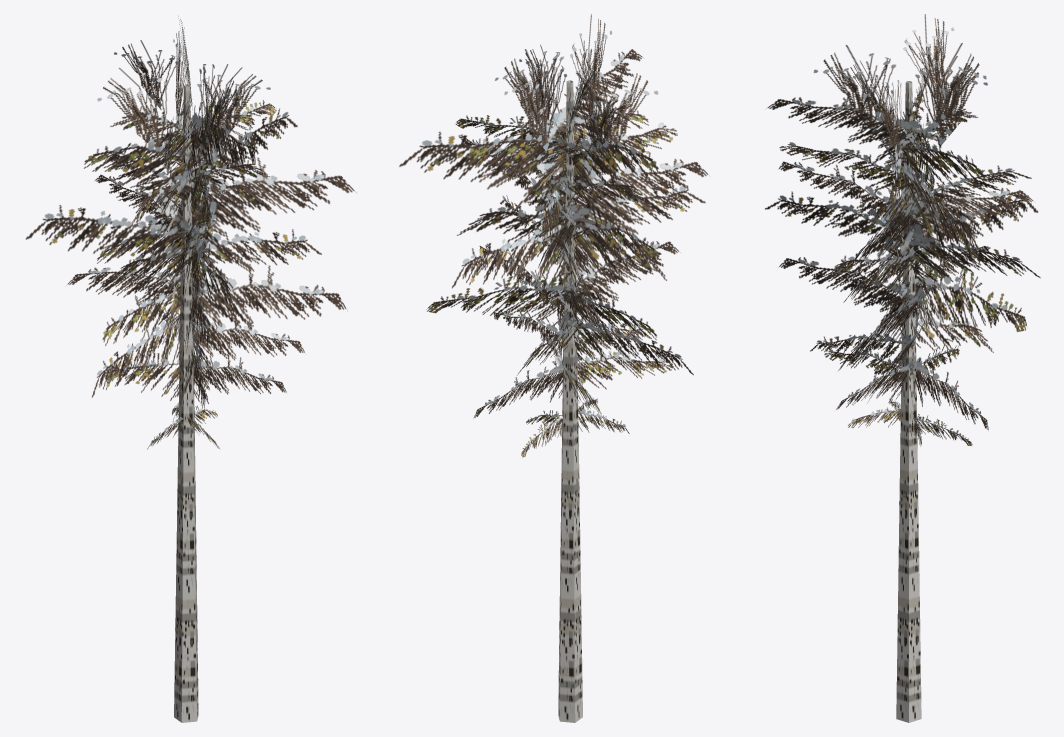
Rendered from Birch.glb.
The picture shows the model from 3 angles, left to right: view 1: azimuth 30°, elevation 25°; view 2: azimuth 150°, elevation 25°; view 3: azimuth 270°, elevation 25°; orthographic projection.
Visible parts, largest first — view 1: Birch; view 2: Birch; view 3: Birch.
Boxes of the visible parts, x1,y1,x2,y2 form: Birch: (25, 16, 356, 722); Birch: (399, 14, 708, 722); Birch: (765, 14, 1040, 722).
Bounding box in the file's own units: 2.93 × 6.47 × 2.53.
1 material, 1 textured.
